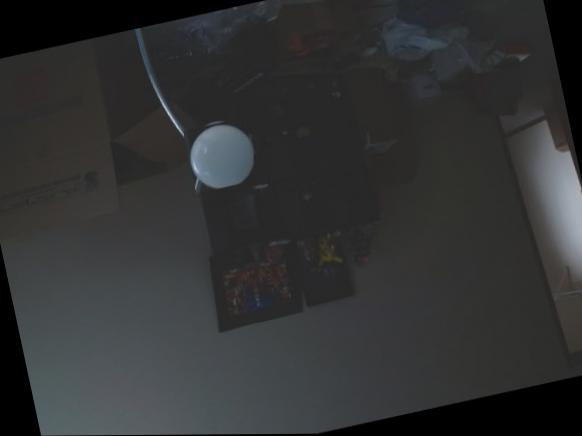Fan: (182, 116, 256, 192)
